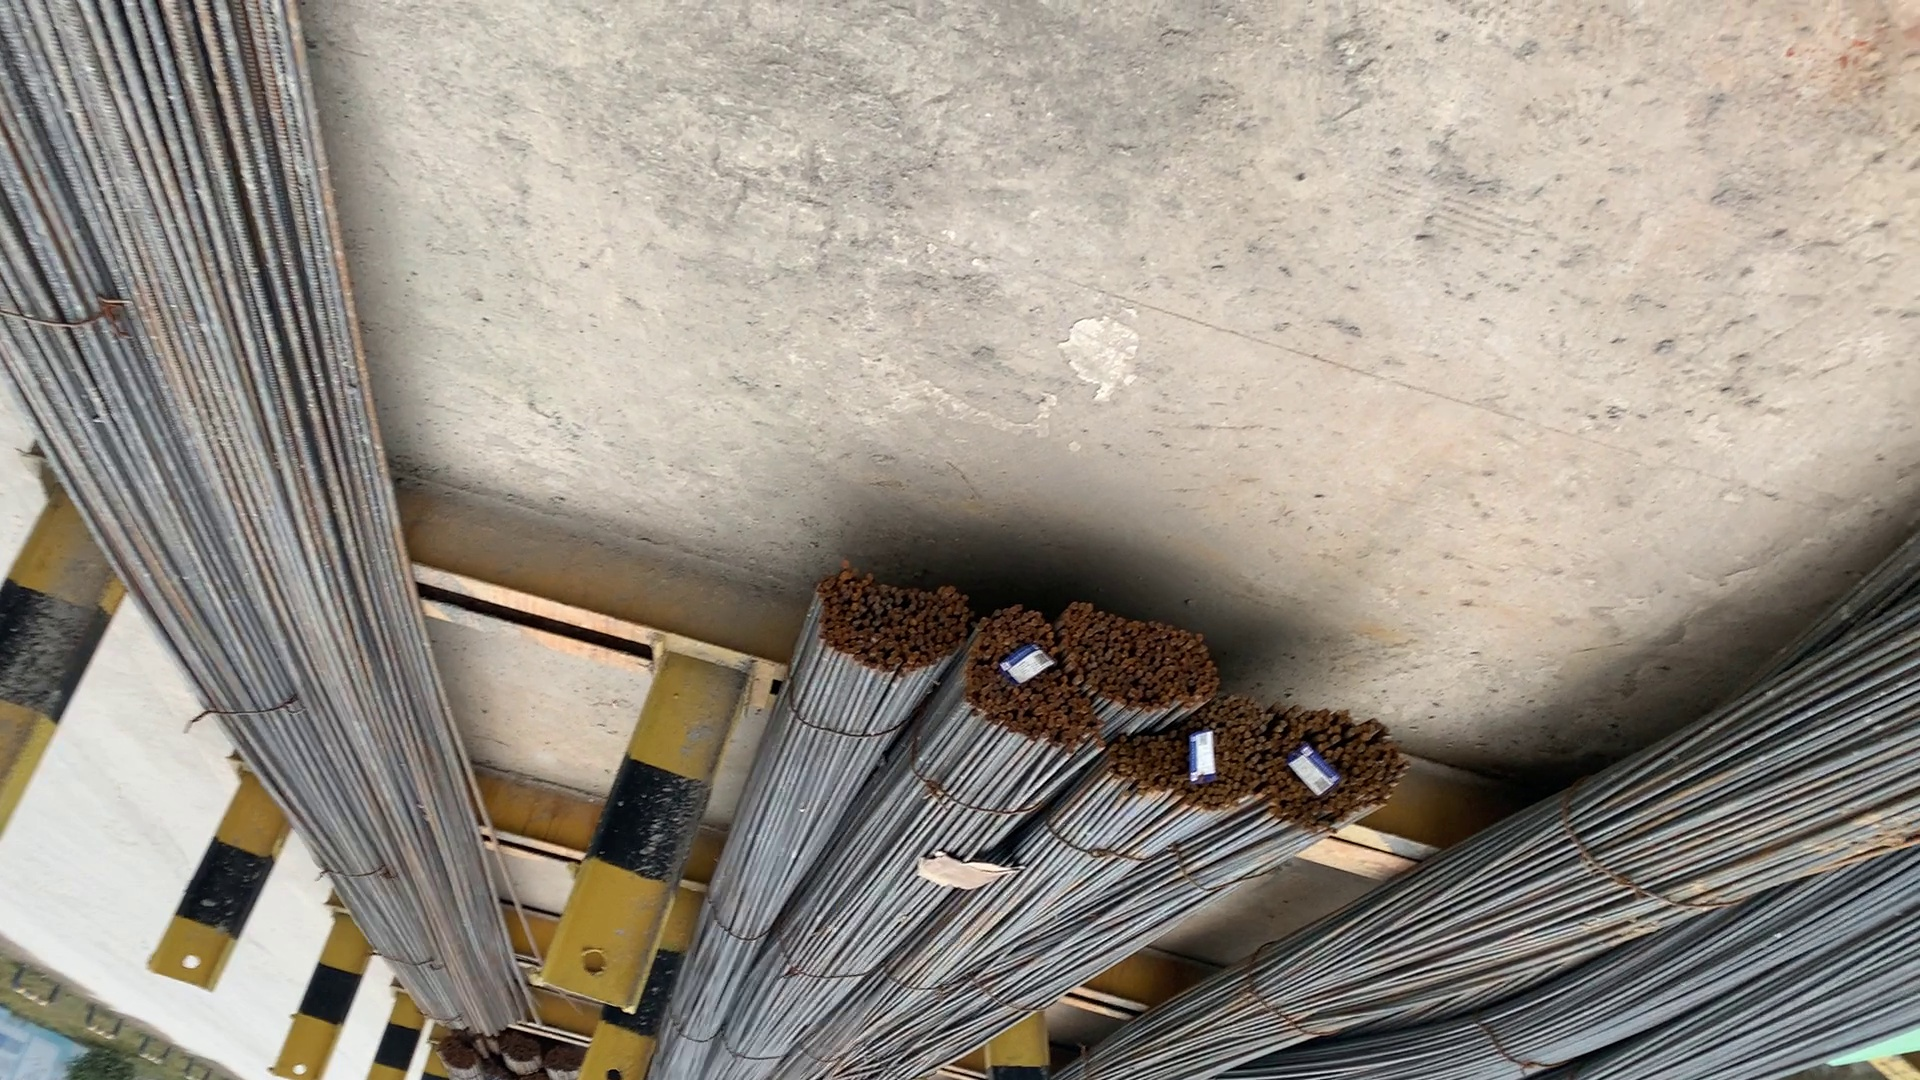rebar: (811, 564, 968, 679), (1266, 707, 1407, 825), (968, 618, 1085, 760), (1100, 713, 1262, 814), (1076, 611, 1216, 715)
